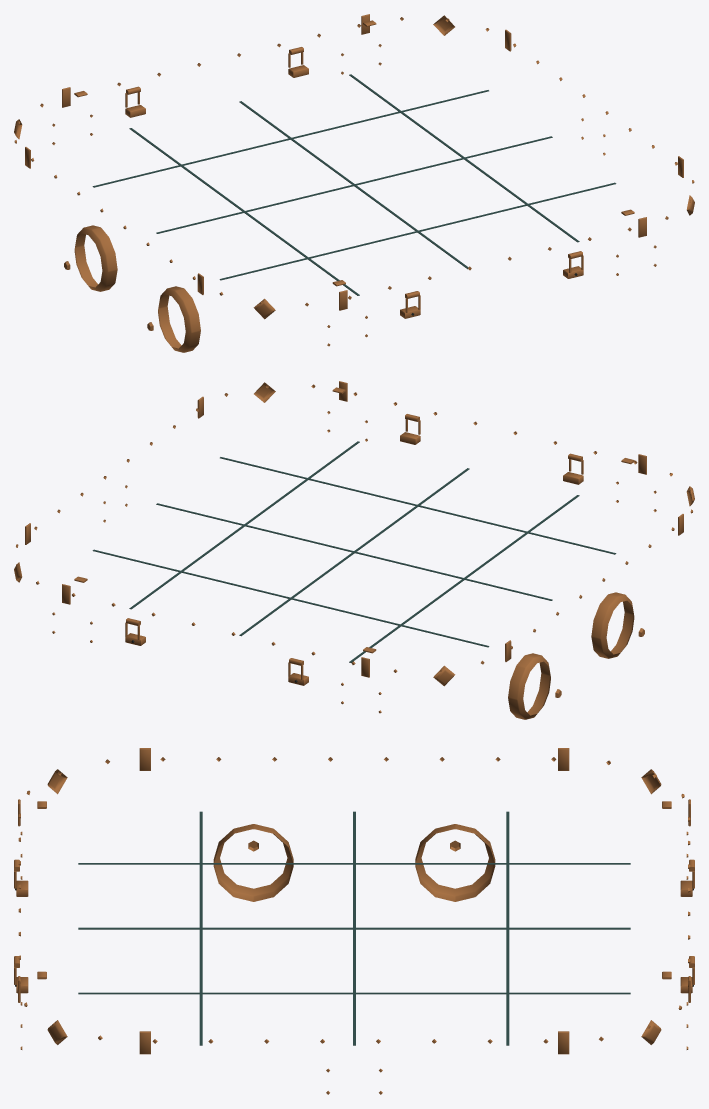
Rendered from barge_detail1.glb.
3 renders of one model, top to bottom at view 1: azimuth 30°, elevation 25°; view 2: azimuth 150°, elevation 25°; view 3: azimuth 270°, elevation 25°, orthographic. The views are drawn at different scales.
Visible parts, largest first — view 1: Detail1; view 2: Detail1; view 3: Detail1.
Boxes of the visible parts, <box> form: Detail1: <box>14,14,694,352</box>; Detail1: <box>14,381,694,719</box>; Detail1: <box>14,748,694,1094</box>.
Size of the model in its own units: 15.56 by 3.46 by 15.54.
